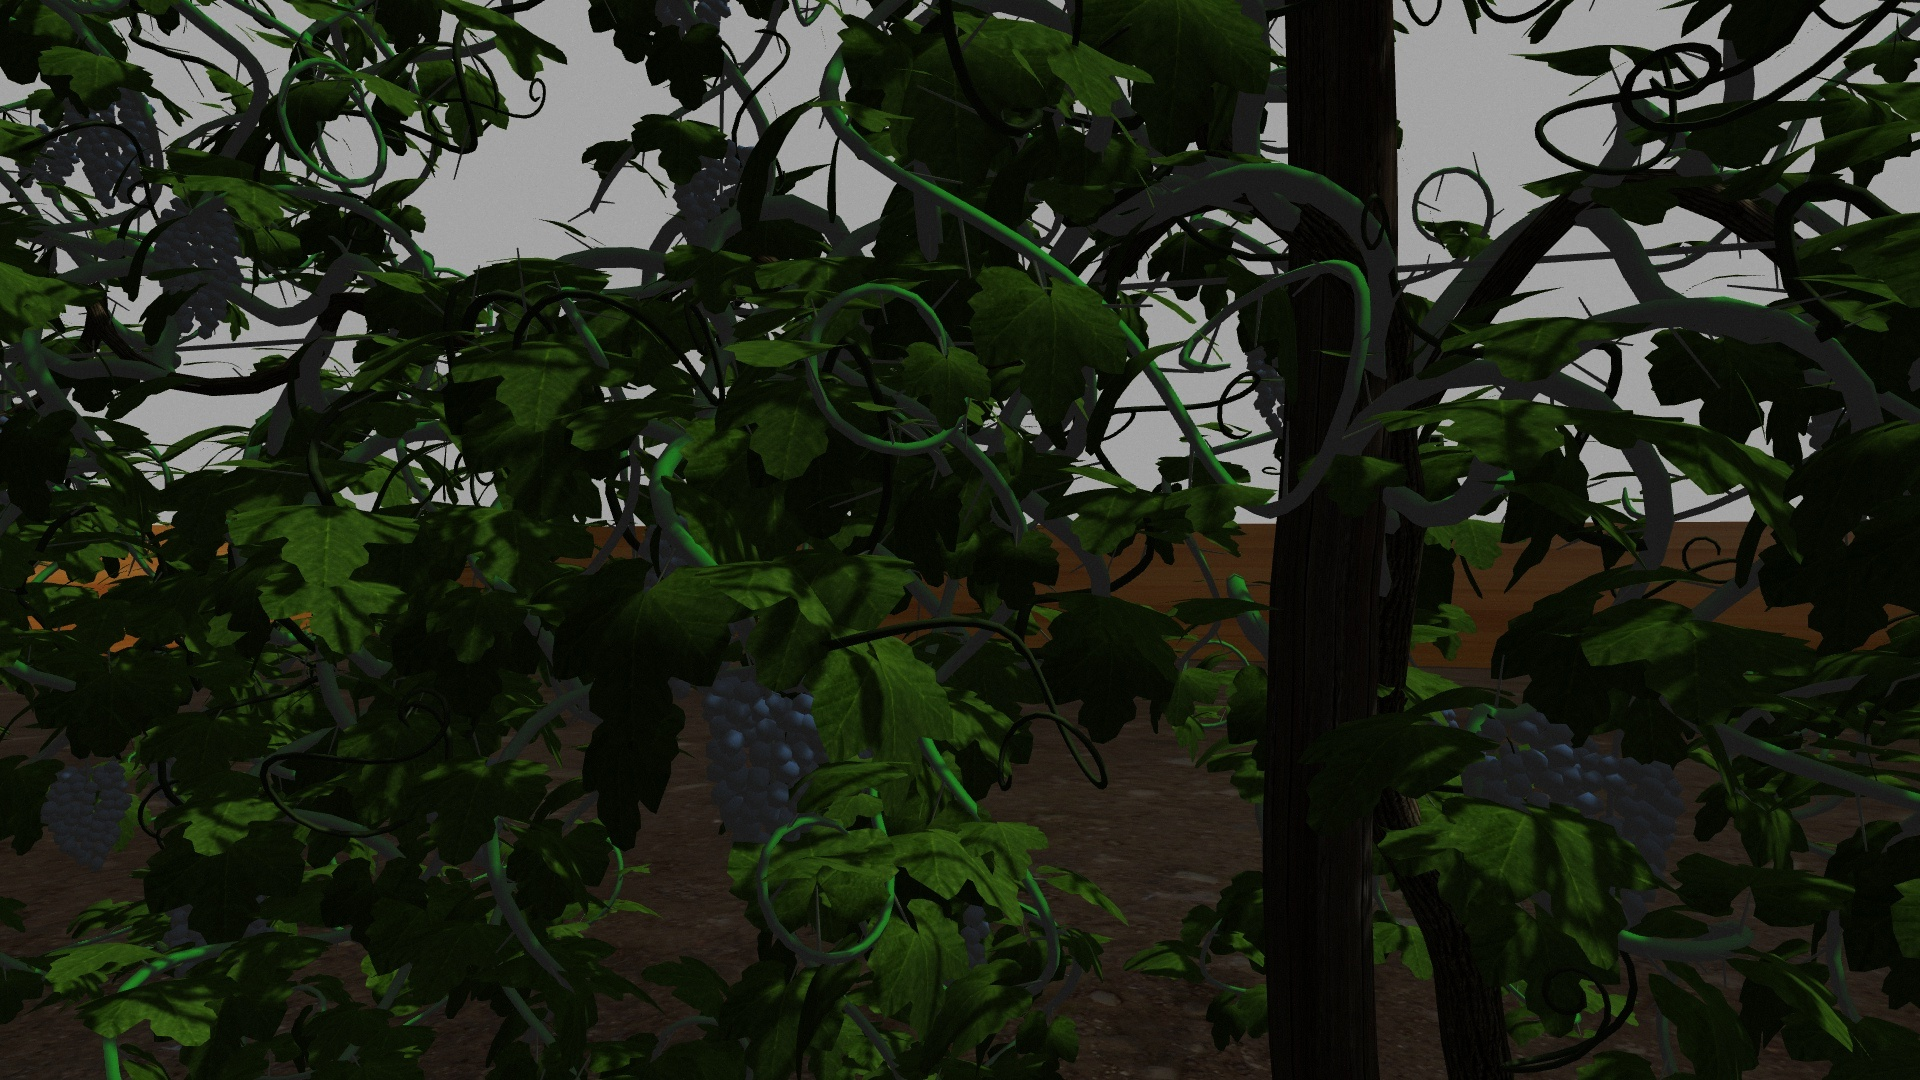grape: (702, 684, 818, 855), (1588, 756, 1685, 924), (1455, 711, 1580, 814), (152, 200, 245, 334), (38, 764, 133, 872), (76, 84, 156, 206), (671, 150, 742, 236), (25, 113, 76, 199)
